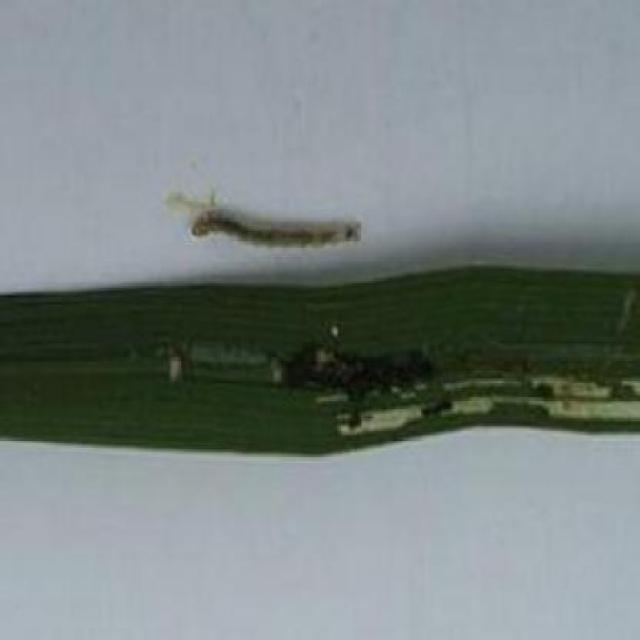leaf-folder: (191, 185, 367, 269)
